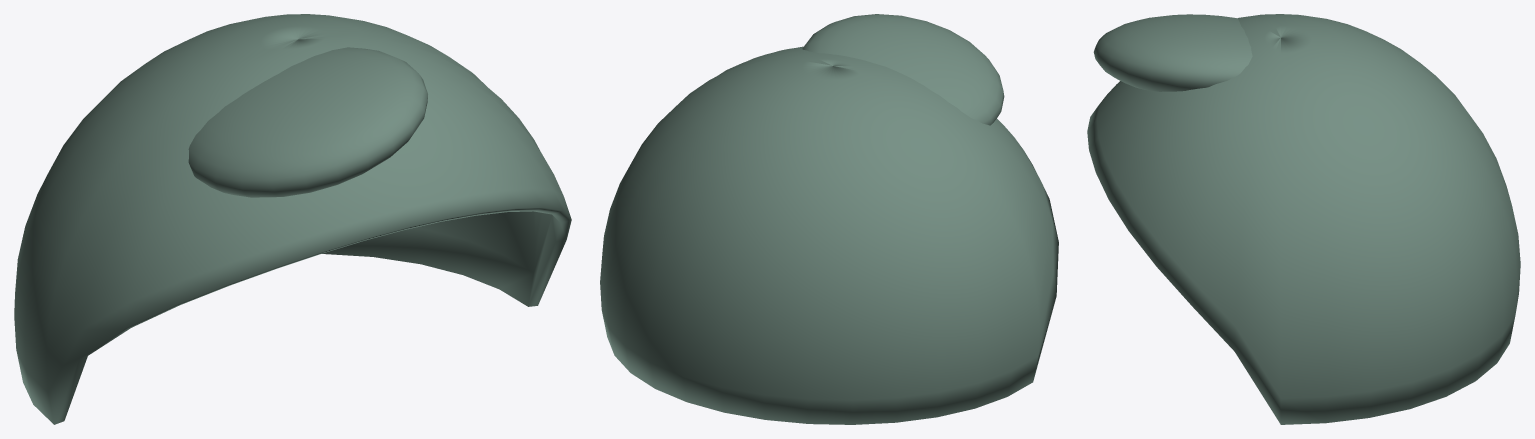
The model's file is short.glb.
3 renders of one model, left to right at view 1: azimuth 30°, elevation 25°; view 2: azimuth 150°, elevation 25°; view 3: azimuth 270°, elevation 25°, orthographic. The views are drawn at different scales.
Parts seen in each view (by area): view 1: sculptedHair, sweptLock0; view 2: sculptedHair, sweptLock0; view 3: sculptedHair, sweptLock0.
Part boxes in pixels (left/top/right/bottom): sculptedHair: left=14, top=14, right=571, bottom=424; sweptLock0: left=188, top=47, right=427, bottom=197; sculptedHair: left=600, top=46, right=1058, bottom=424; sweptLock0: left=802, top=14, right=1004, bottom=125; sculptedHair: left=1087, top=14, right=1520, bottom=424; sweptLock0: left=1093, top=14, right=1252, bottom=91.
Size of the model in its own units: 0.7805 by 0.4942 by 0.6701.
